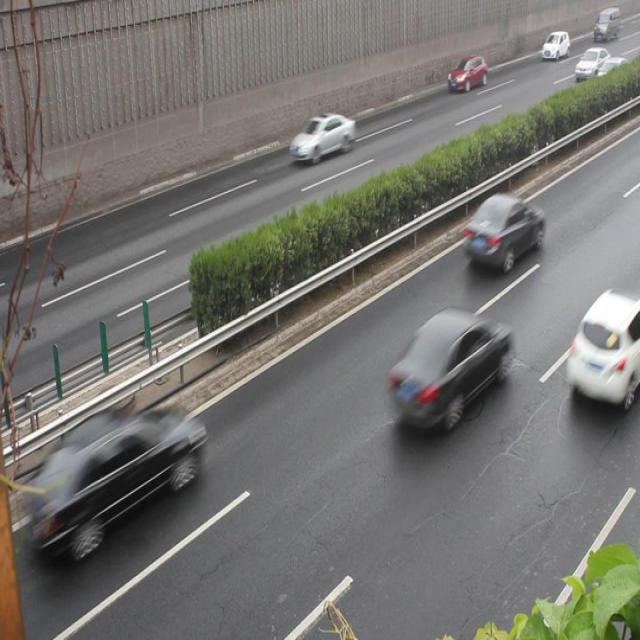car: (45, 404, 205, 556), (386, 307, 511, 430), (564, 286, 640, 408), (462, 192, 544, 274), (288, 113, 354, 166), (446, 54, 487, 92)
